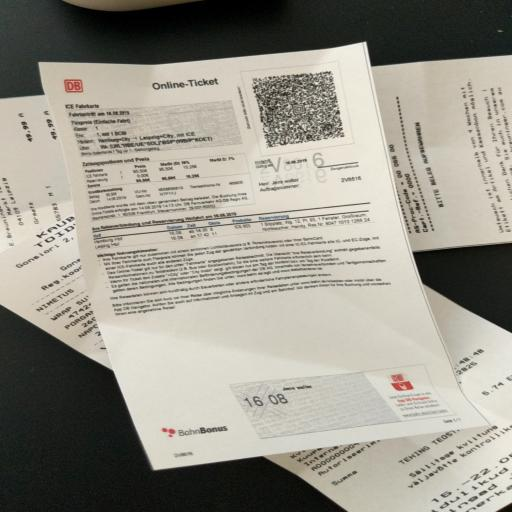paper: (21, 40, 482, 512)
